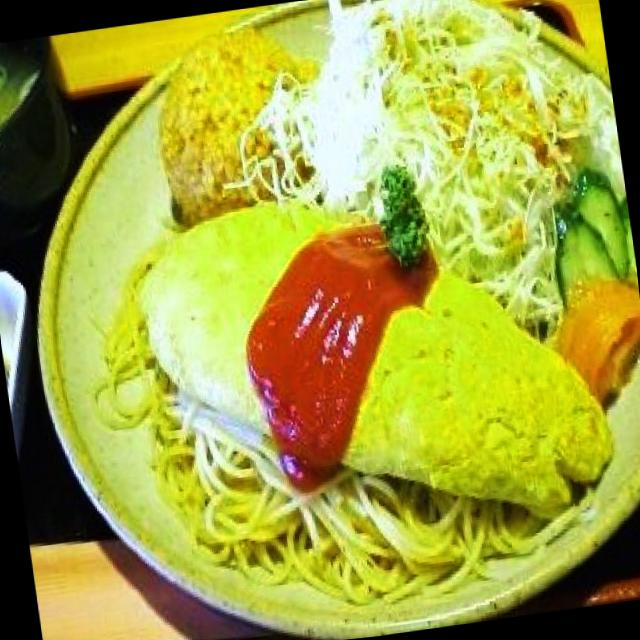Omelet: (134, 172, 614, 540)
